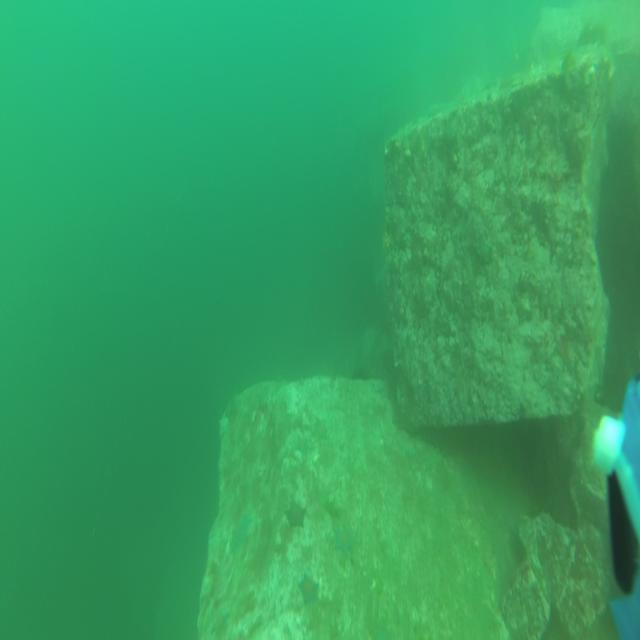starfish: (227, 515, 252, 550), (331, 520, 353, 559), (296, 572, 321, 606), (283, 496, 307, 530), (561, 46, 580, 75)
